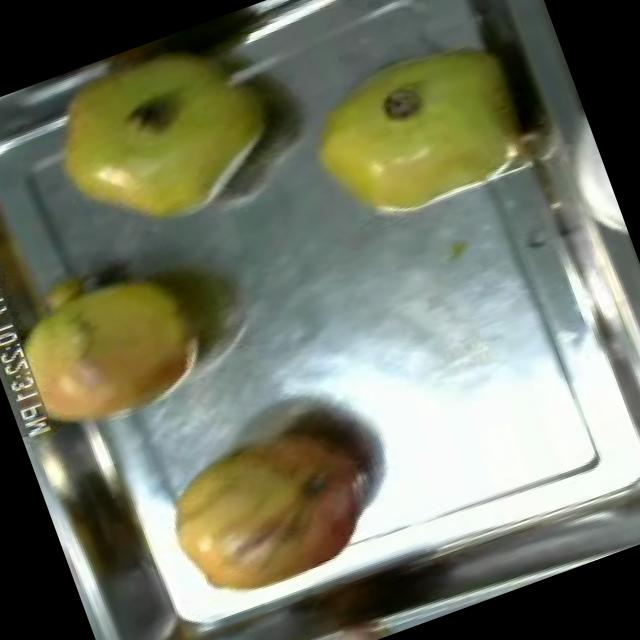fruit: (271, 0, 567, 264), (132, 387, 416, 629), (0, 214, 239, 476)
